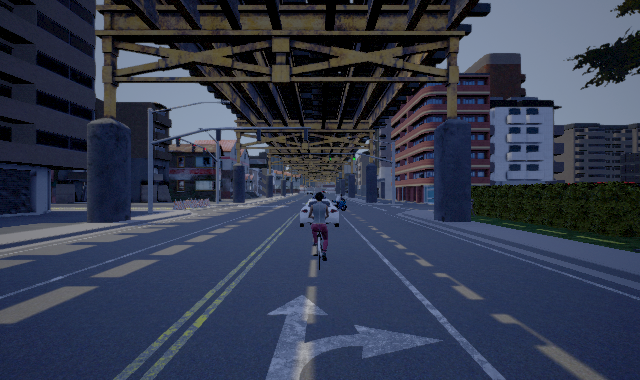bike: (308, 191, 333, 262)
traffic_light: (176, 138, 181, 147), (192, 143, 196, 152), (203, 147, 207, 155), (353, 153, 355, 160), (329, 153, 331, 160)
vehicle: (300, 193, 341, 228)
